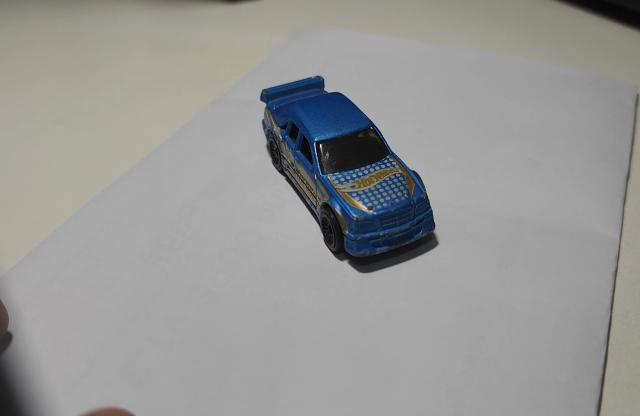04_MERZEDES: (258, 76, 440, 275)
